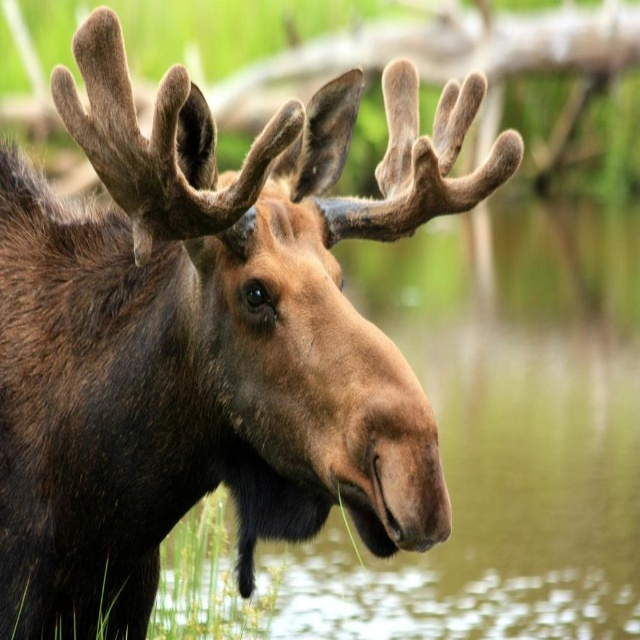Deer: (0, 5, 524, 640)
